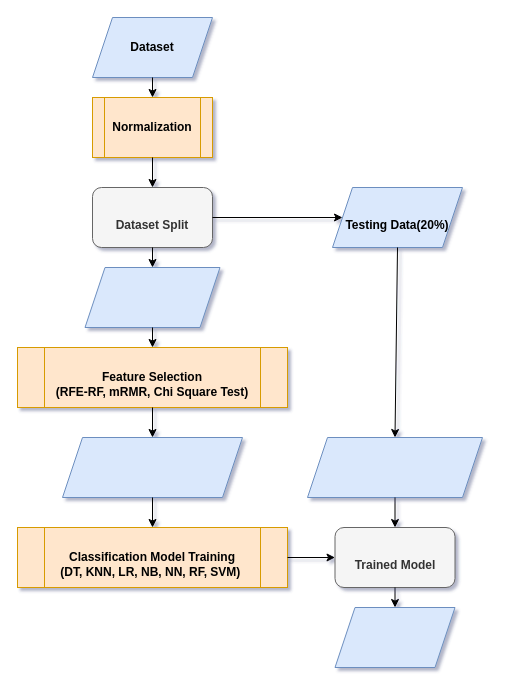
This 506x691 diagram has some shape labels left out. The centre of each missing label's shape, as x and y in pixels:
"Results" belongs at pixel 394 637.
"Testing Data with Selected Features" belongs at pixel 394 467.
"Training Data with Selected Features" belongs at pixel 152 467.
"Training Data(80%)" belongs at pixel 152 297.
